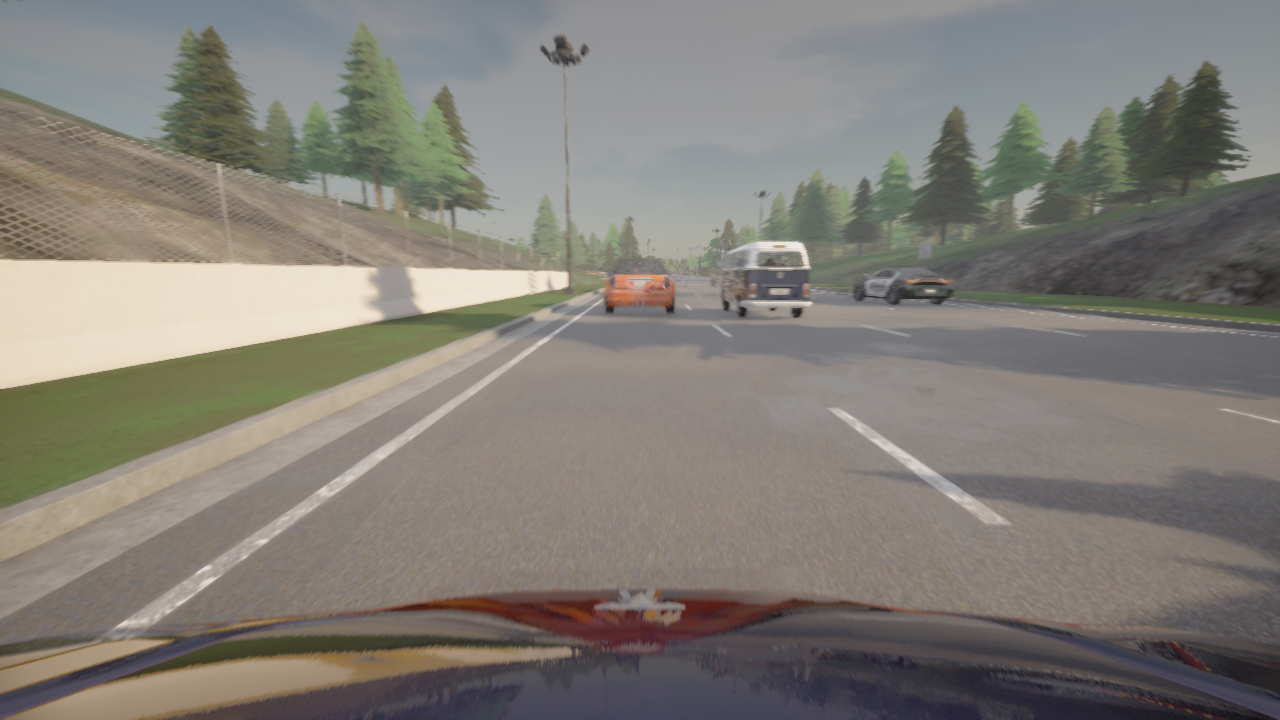cyclist: (0, 588, 1279, 719), (717, 241, 811, 318), (853, 265, 955, 305), (605, 257, 675, 313), (710, 270, 720, 286)
